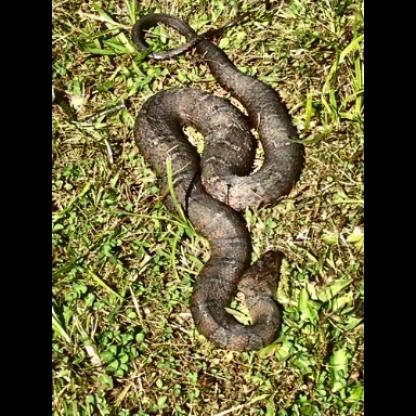Snake: (126, 12, 331, 354)
